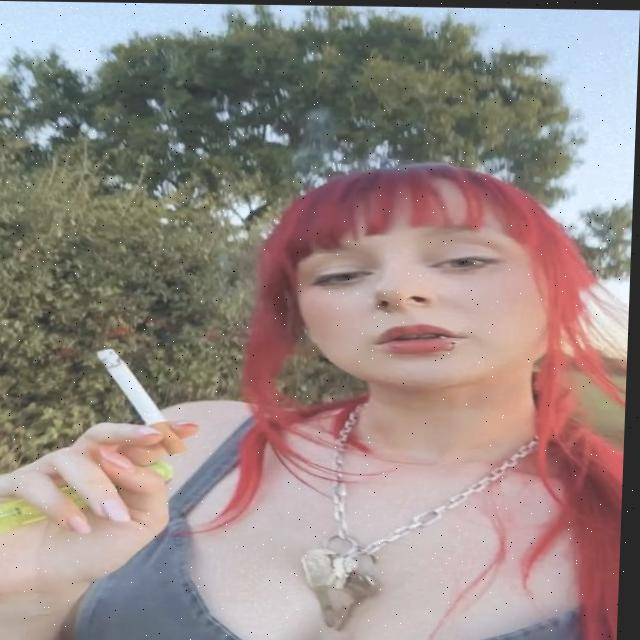cigarette: (98, 348, 194, 454)
